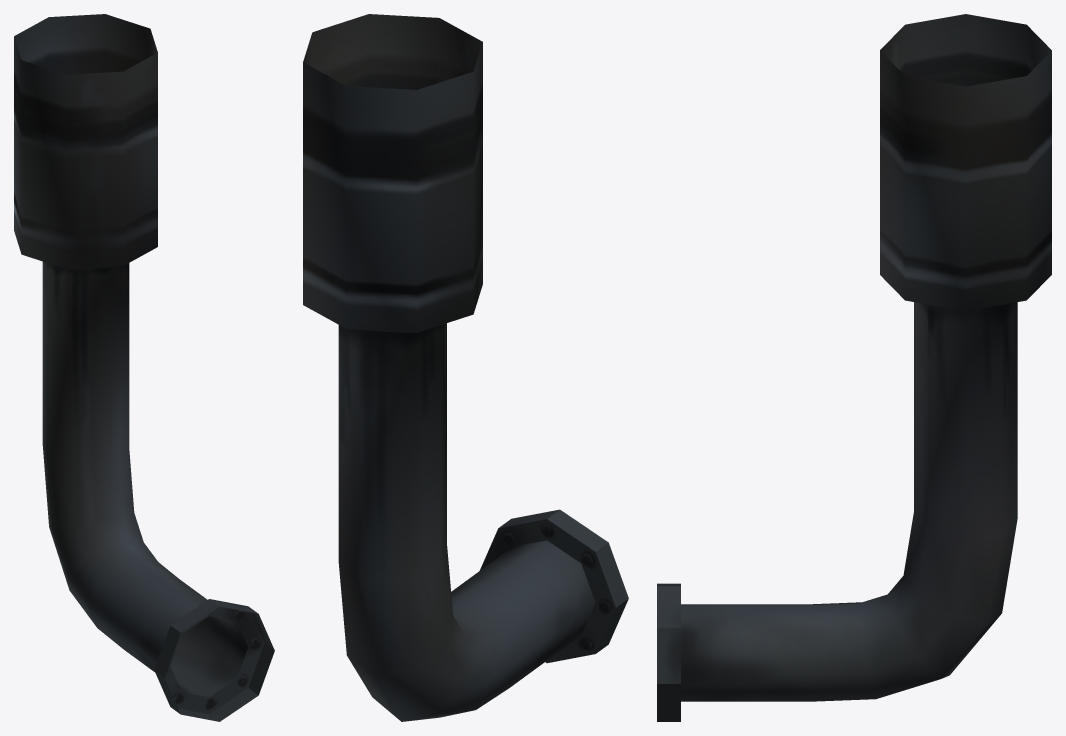
The model's file is Pipe.FBX.
3 views of the same model, side by side, from view 1: azimuth 30°, elevation 25°; view 2: azimuth 150°, elevation 25°; view 3: azimuth 270°, elevation 25° (orthographic). The views are drawn at different scales.
Visible parts, largest first — view 1: Pipe; view 2: Pipe; view 3: Pipe.
Boxes of the visible parts, x1,y1,x2,y2 form: Pipe: (14,14,274,721); Pipe: (303,14,628,721); Pipe: (657,14,1051,721).
Bounding box in the file's own units: 56.31 × 242 × 129.
